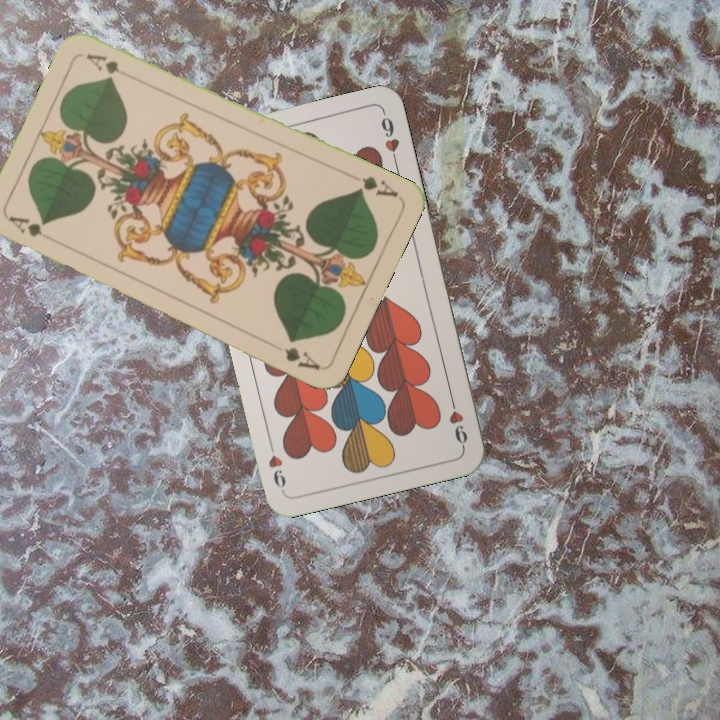GA: (4, 212, 60, 246), (353, 172, 401, 201)
H9: (445, 391, 470, 450)
